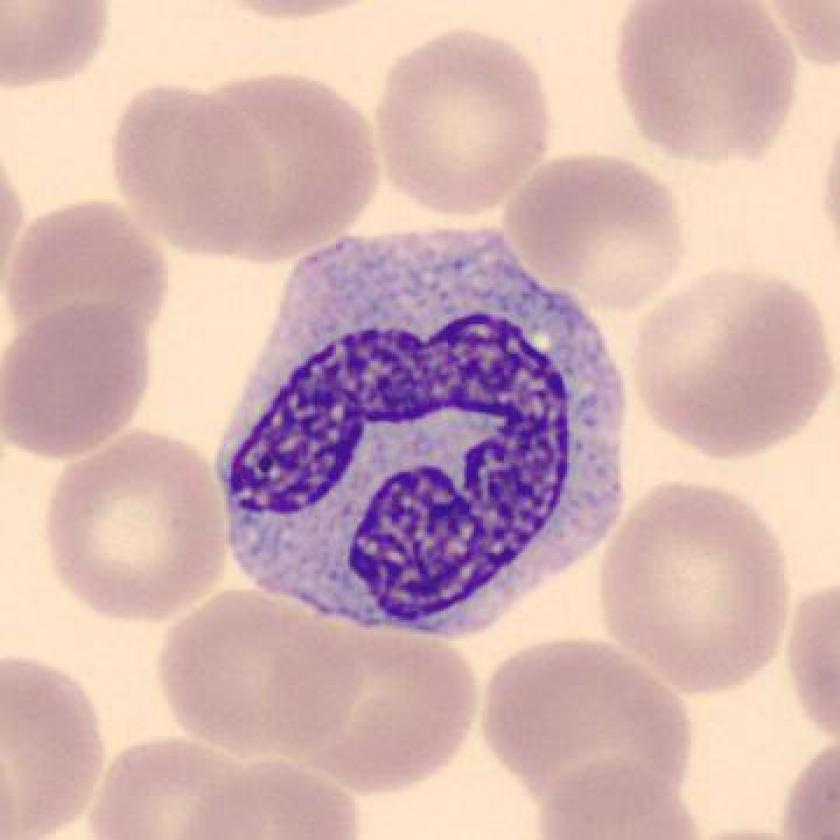monocyte: (197, 207, 654, 672)
